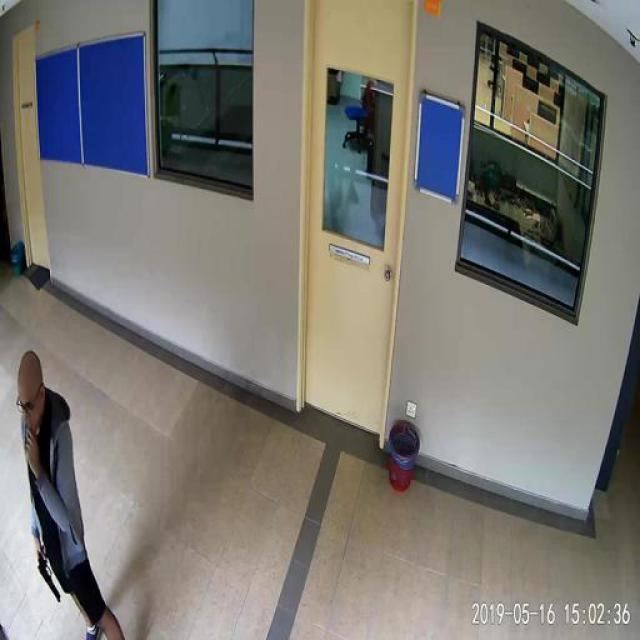weapon: (36, 552, 62, 602)
